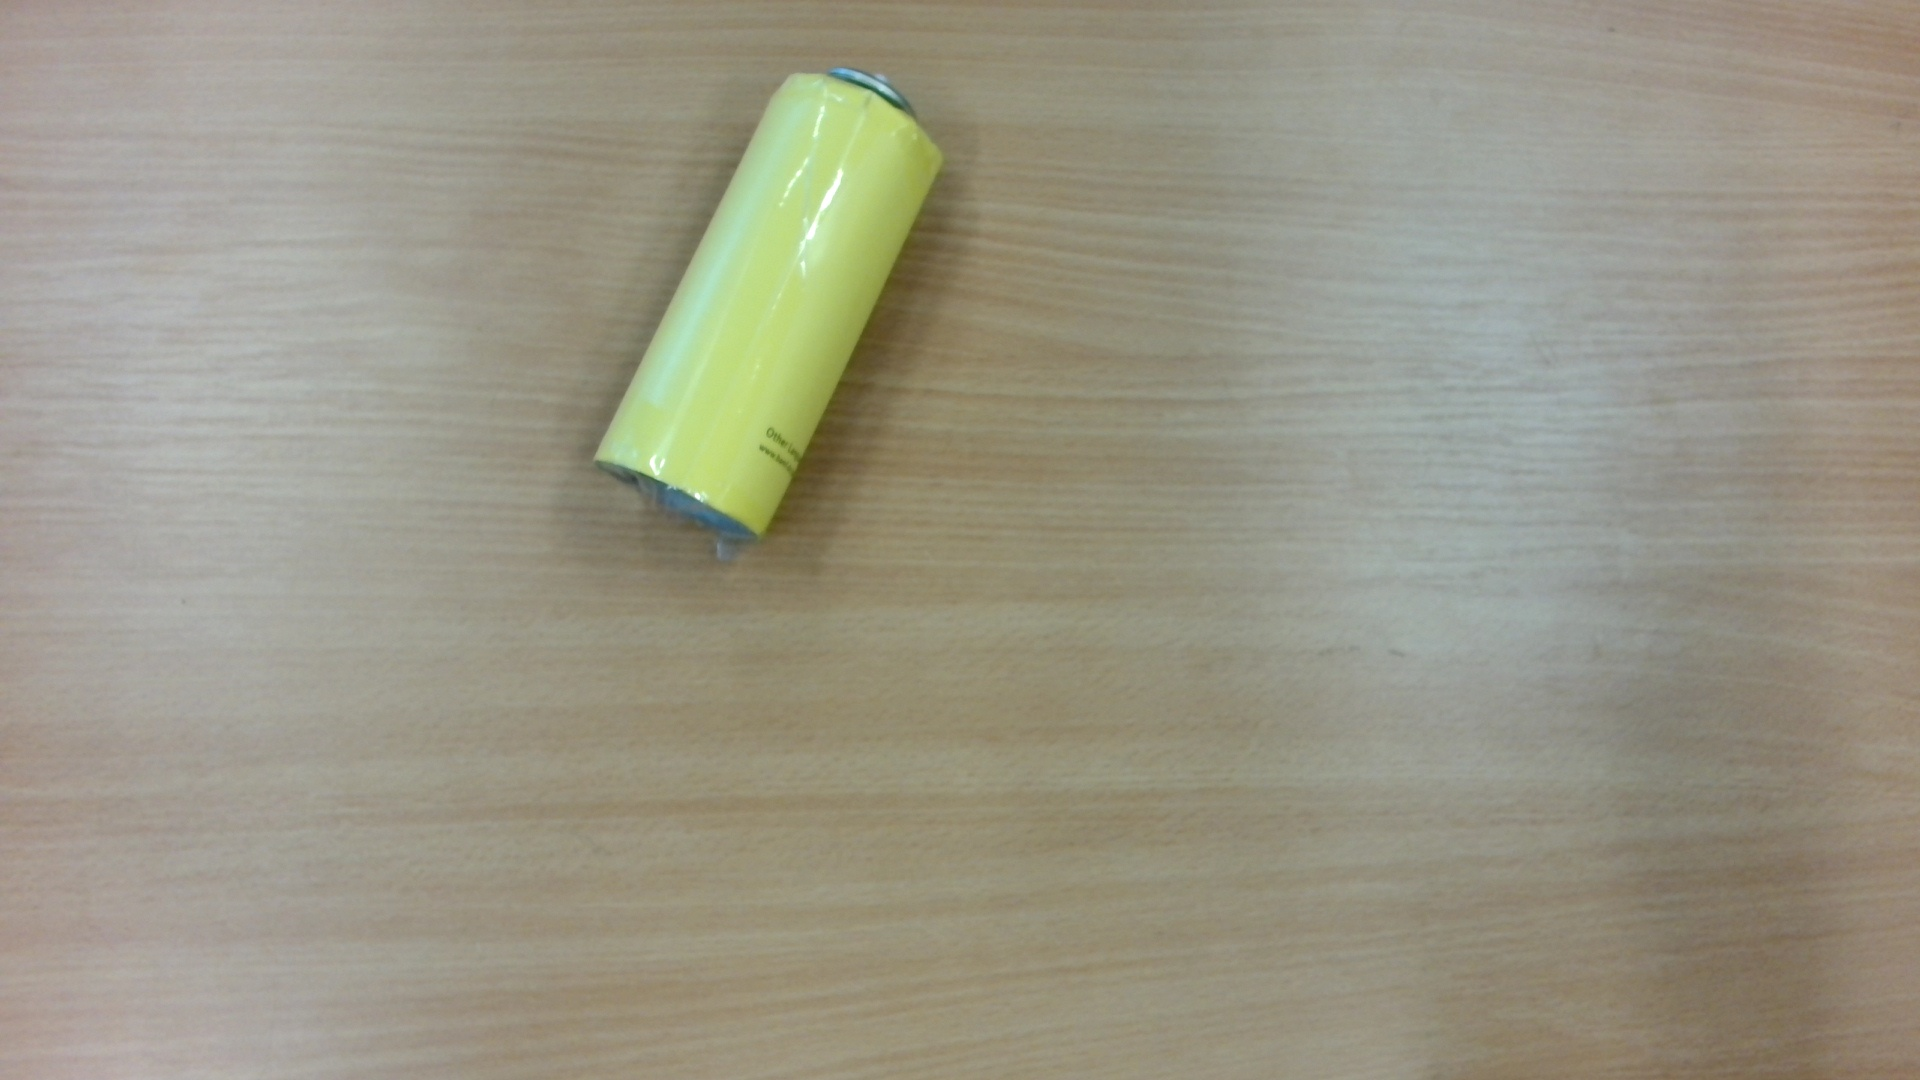Cylinder: (584, 50, 965, 597)
